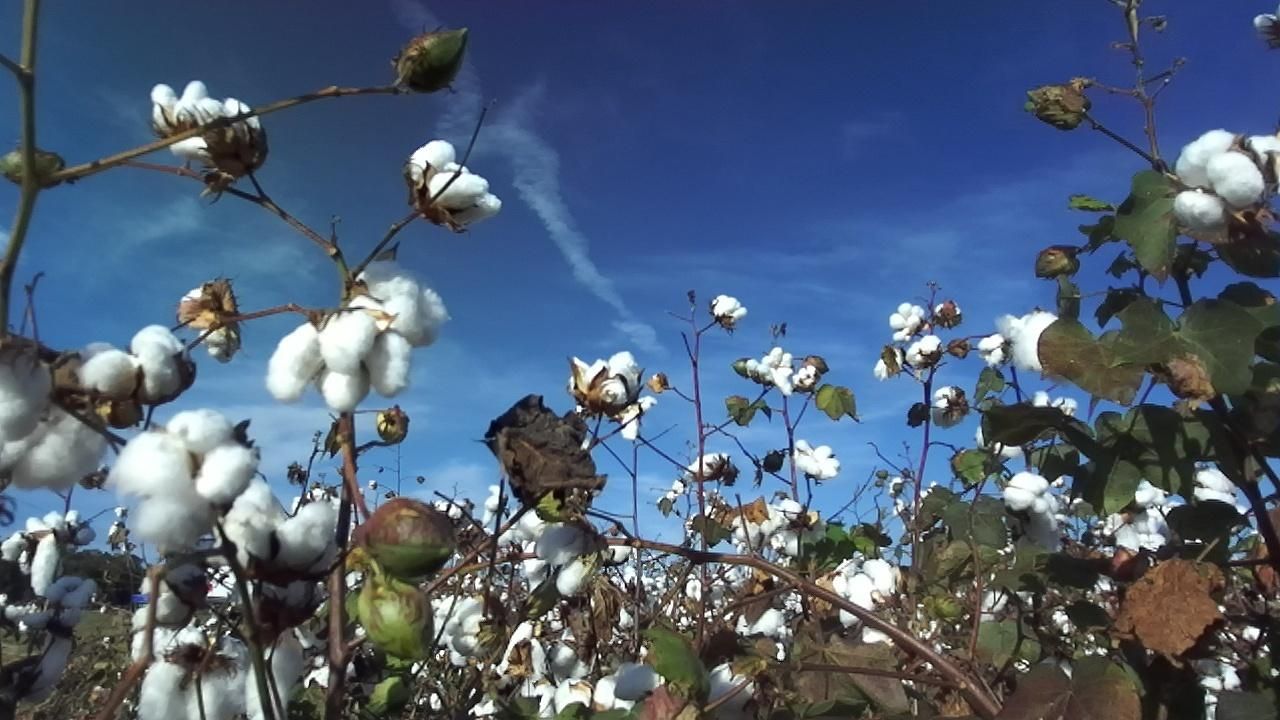cotton_ready: (117, 409, 257, 543), (264, 315, 410, 410), (0, 363, 105, 490), (223, 480, 344, 574), (1172, 130, 1280, 229), (16, 577, 92, 703), (355, 265, 454, 350), (79, 325, 184, 399), (414, 139, 501, 223), (229, 630, 302, 720), (137, 660, 240, 720), (181, 97, 264, 170), (29, 510, 94, 594), (502, 620, 593, 678), (429, 592, 495, 670), (834, 557, 902, 632), (523, 522, 592, 595), (1110, 487, 1172, 555), (701, 659, 764, 720), (148, 80, 214, 135), (188, 287, 237, 359), (999, 314, 1058, 373), (599, 665, 662, 720), (579, 350, 639, 398), (521, 682, 590, 720), (1005, 474, 1058, 514), (1194, 465, 1239, 510), (793, 443, 839, 480)
